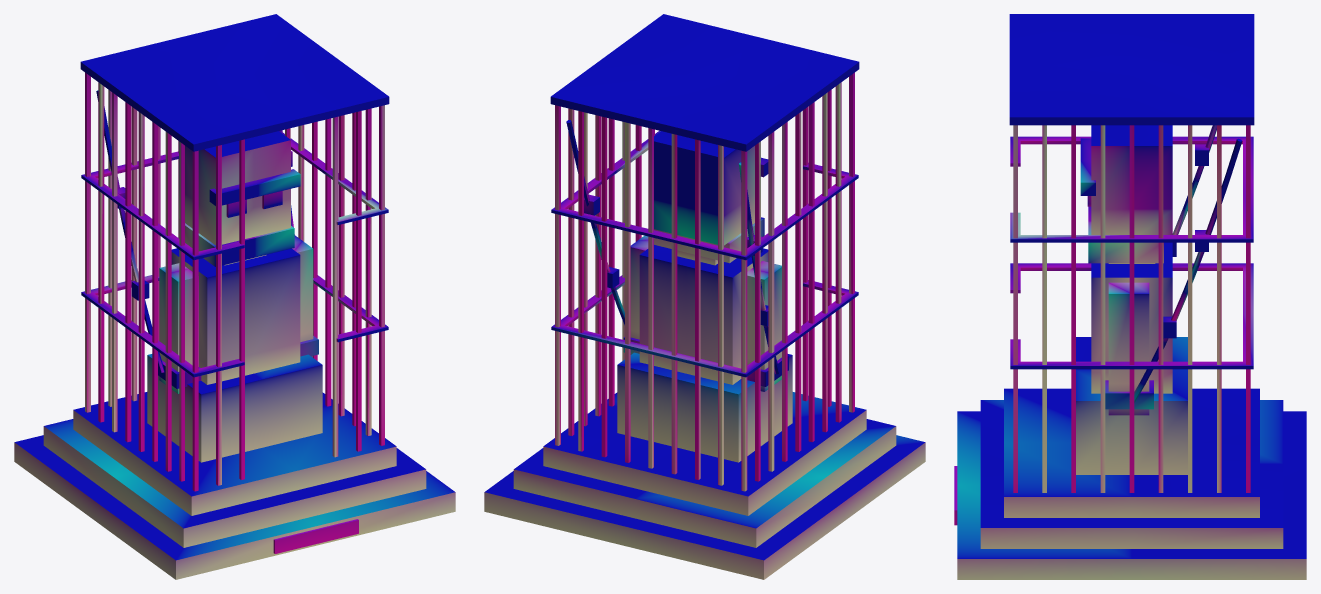
File: bound_god.glb
The picture shows the model from 3 angles, left to right: view 1: azimuth 30°, elevation 25°; view 2: azimuth 150°, elevation 25°; view 3: azimuth 270°, elevation 25°; orthographic projection. The views are drawn at different scales.
Parts seen in each view (by area): view 1: bound_god; view 2: bound_god; view 3: bound_god.
Part boxes in pixels (x1=…): bound_god: x1=14, y1=14, x2=455, y2=579; bound_god: x1=484, y1=14, x2=925, y2=579; bound_god: x1=954, y1=14, x2=1306, y2=579.
Size of the model in its own units: 6 by 8.35 by 6.05.
